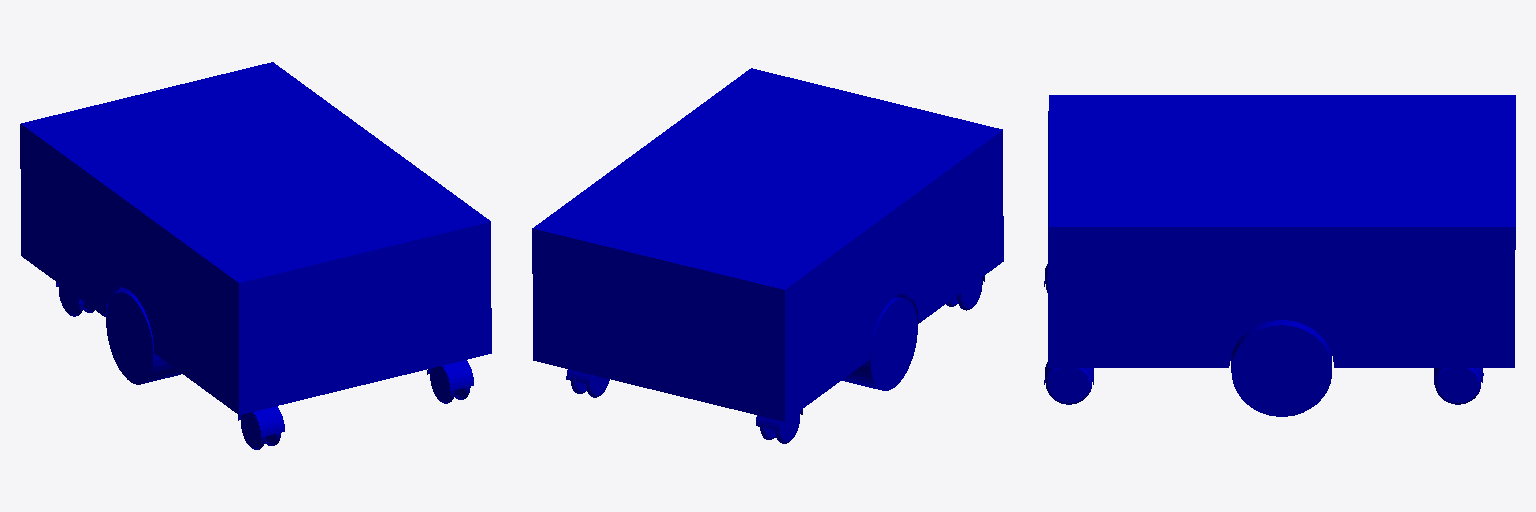
The robot description file, URDF, robot "robot":
<?xml version="1.0"?>
<robot name="robot">

<material name="blue">
    <color rgba="0 0 0.8 1"/>
  </material>
  <material name="black">
    <color rgba="0 0 0 1"/>
  </material>
  <material name="white">
    <color rgba="1 1 1 1"/>
  </material>



<link name="base">

<inertial>
   <origin rpy="0 0 0" xyz="0 0 0.0"/>
   <mass value="10"/>
  
   <inertia ixx="00.154" ixy="0" ixz="0" iyy="0.30" iyz="0"  izz="00.054"/>
</inertial>


<collision>
      <geometry>
       <mesh filename="package://diff_drive_robot/dae/frame.dae" scale = "0.001 0.001 0.001"/>
      </geometry>
        <origin rpy="1.57 0 0" xyz="-0.2 0.3 0"/>
    </collision>

<visual>
      <geometry>
       <mesh filename="package://diff_drive_robot/dae/frame.dae" scale = "0.001 0.001 0.001"/>
      </geometry>
        <origin rpy="1.57 0 0" xyz="-0.2 0.3 0"/>
      <material name="blue"/>
    </visual>

</link>






<link name="wheel_r">
<inertial>
   <origin rpy="1.57 0 0" xyz="0.2 0 0"/>
   <mass value="0.01"/>
   <inertia ixx="0.0160" ixy="0" ixz="0" iyy="0.0160" iyz="0"  izz="0.0144"/>
</inertial>
<collision>
      <geometry>
         <mesh filename="package://diff_drive_robot/dae/wheel.dae" scale = "0.001 0.001 0.001"/>
      </geometry>
        <origin rpy="0 0 3.14" xyz="0.2 0.065 -0.065"/>
    </collision>


    <visual>
      <geometry>
         <mesh filename="package://diff_drive_robot/dae/wheel.dae" scale = "0.001 0.001 0.001"/>
      </geometry>
        <origin rpy="0 0 3.14" xyz="0.2 0.065 -0.065"/>
      <material name="blue"/>
    </visual>
  </link>

  <joint name="right_j" type="continuous">
    <parent link="base"/>
    <child link="wheel_r"/>
    <origin xyz="0 0 0.0198"/>
    
    
    <axis  xyz = "1 0 0"/>
  </joint>

<gazebo reference="wheel_r">
    <mu1>0.8</mu1>
    <mu2>0.8</mu2>
    
  </gazebo>


<link name="wheel_l">
<inertial>
   <origin rpy="1.57 0 0" xyz="0.2 0 0"/>
   <mass value="0.01"/>
   <inertia ixx="0.0160" ixy="0" ixz="0" iyy="0.0160" iyz="0"  izz="0.0144"/>
</inertial>
<collision>
      <geometry>
         <mesh filename="package://diff_drive_robot/dae/wheel.dae" scale = "0.001 0.001 0.001"/>
      </geometry>
        <origin rpy="0 0 0" xyz="-0.2 -0.065 -0.065"/>
    </collision>


    <visual>
      <geometry>
         <mesh filename="package://diff_drive_robot/dae/wheel.dae" scale = "0.001 0.001 0.001"/>
      </geometry>
        <origin rpy="0 0 0" xyz="-0.2 -0.065 -0.065"/>
      <material name="blue"/>
    </visual>
  </link>

  <joint name="left_j" type="continuous">
    <parent link="base"/>
    <child link="wheel_l"/>
    <origin xyz="0 0 0.0198"/>
    
    
    <axis  xyz = "1 0 0"/>
  </joint>


<gazebo reference="wheel_l">
    <mu1>0.8</mu1>
    <mu2>0.8</mu2>
    
  </gazebo>






<link name="caster_fr">
<inertial>
   <origin rpy="1.57 0 0" xyz="0.2 0 0"/>
   <mass value="0.01"/>
   <inertia ixx="0.0160" ixy="0" ixz="0" iyy="0.0160" iyz="0"  izz="0.0144"/>
</inertial>
<collision>
      <geometry>
         <mesh filename="package://diff_drive_robot/dae/caster_joint.dae" scale = "0.001 0.001 0.001"/>
      </geometry>
        <origin rpy="1.57 0 3.14" xyz="0.02 -0.055 -0.020"/>
    </collision>


!--changing Z value to set the wheel--!
    <visual>
      <geometry>
         <mesh filename="package://diff_drive_robot/dae/caster_joint.dae" scale = "0.001 0.001 0.001"/>
      </geometry>
        <origin rpy="1.57 0 3.14" xyz="0.02 -0.055 -0.020"/>
      <material name="blue"/>
    </visual>
  </link>


  <joint name="caster_fr_joint" type="fixed">
    <parent link="base"/>
    <child link="caster_fr"/>
    <origin xyz="0.150 0.25 0"/>
    
    
    <axis  xyz = "0 0 1"/>
  </joint>









<link name="caster_wheel_fr_out">
<inertial>
   <origin rpy="1.57 0 0" xyz="0.2 0 0"/>
   <mass value="0.01"/>
   <inertia ixx="5.1458e-5" iyy="5.1458e-5" izz="6.125e-5"
           ixy="0" ixz="0" iyz="0"/>
</inertial>
<collision>
      <geometry>
         <mesh filename="package://diff_drive_robot/dae/caster.dae" scale = "0.001 0.001 0.001"/>
      </geometry>
        <origin rpy="1.57 0 0" xyz="0 0.030 -0.03"/>
    </collision>


!--changing Z value to set the wheel--!
    <visual>
      <geometry>
         <mesh filename="package://diff_drive_robot/dae/caster.dae" scale = "0.001 0.001 0.001"/>
      </geometry>
        <origin rpy="1.57 0 0" xyz="0 0.030 -0.03"/>
      <material name="blue"/>
    </visual>
  </link>


  <joint name="caster_fr_wheel_out_joint" type="continuous">
    <parent link="caster_fr"/>
    <child link="caster_wheel_fr_out"/>
    <origin xyz="0 -0.0235 -0.015"/>
    
    
    <axis  xyz = "1 0 0"/>
  </joint>



<gazebo reference="caster_wheel_fr_out">
    <mu1>0.0</mu1>
    <mu2>0.0</mu2>
    
  </gazebo>


<link name="caster_wheel_fr_in">
<inertial>
   <origin rpy="1.57 0 0" xyz="0.2 0 0"/>
   <mass value="0.01"/>
   <inertia ixx="5.1458e-5" iyy="5.1458e-5" izz="6.125e-5"
           ixy="0" ixz="0" iyz="0"/>
</inertial>
<collision>
      <geometry>
         <mesh filename="package://diff_drive_robot/dae/caster.dae" scale = "0.001 0.001 0.001"/>
      </geometry>
        <origin rpy="1.57 0 3.14" xyz="0 -0.030 -0.03"/>
    </collision>


!--changing Z value to set the wheel--!
    <visual>
      <geometry>
         <mesh filename="package://diff_drive_robot/dae/caster.dae" scale = "0.001 0.001 0.001"/>
      </geometry>
        <origin rpy="1.57 0 3.14" xyz="0 -0.030 -0.03"/>
      <material name="blue"/>
    </visual>
  </link>


  <joint name="caster_fr_wheel_in_joint" type="continuous">
    <parent link="caster_fr"/>
    <child link="caster_wheel_fr_in"/>
    <origin xyz="0 -0.0235 -0.015"/>
    
    
    <axis  xyz = "1 0 0"/>
  </joint>


<gazebo reference="caster_wheel_fr_in">
    <mu1>0.0</mu1>
    <mu2>0.0</mu2>
    
  </gazebo>















<link name="caster_fl">
<inertial>
   <origin rpy="1.57 0 0" xyz="0.2 0 0"/>
   <mass value="0.01"/>
   <inertia ixx="0.0160" ixy="0" ixz="0" iyy="0.0160" iyz="0"  izz="0.0144"/>
</inertial>
<collision>
      <geometry>
         <mesh filename="package://diff_drive_robot/dae/caster_joint.dae" scale = "0.001 0.001 0.001"/>
      </geometry>
        <origin rpy="1.57 0 3.14" xyz="0.02 -0.055 -0.020"/>
    </collision>


!--changing Z value to set the wheel--!
    <visual>
      <geometry>
         <mesh filename="package://diff_drive_robot/dae/caster_joint.dae" scale = "0.001 0.001 0.001"/>
      </geometry>
        <origin rpy="1.57 0 3.14" xyz="0.02 -0.055 -0.020"/>
      <material name="blue"/>
    </visual>
  </link>


  <joint name="caster_fl_joint" type="fixed">
    <parent link="base"/>
    <child link="caster_fl"/>
    <origin xyz="-0.150 0.25 0"/>
    
    
    <axis  xyz = "0 0 1"/>
  </joint>












<link name="caster_wheel_fl_out">
<inertial>
   <origin rpy="1.57 0 0" xyz="0.2 0 0"/>
   <mass value="0.01"/>
   <inertia ixx="5.1458e-5" iyy="5.1458e-5" izz="6.125e-5"
           ixy="0" ixz="0" iyz="0"/>
</inertial>
<collision>
      <geometry>
         <mesh filename="package://diff_drive_robot/dae/caster.dae" scale = "0.001 0.001 0.001"/>
      </geometry>
        <origin rpy="1.57 0 3.14" xyz="0 -0.030 -0.03"/>
    </collision>


!--changing Z value to set the wheel--!
    <visual>
      <geometry>
         <mesh filename="package://diff_drive_robot/dae/caster.dae" scale = "0.001 0.001 0.001"/>
      </geometry>
        <origin rpy="1.57 0 3.14" xyz="0 -0.030 -0.03"/>
      <material name="blue"/>
    </visual>
  </link>


  <joint name="caster_fl_wheel_out_joint" type="continuous">
    <parent link="caster_fl"/>
    <child link="caster_wheel_fl_out"/>
    <origin xyz="0 -0.0235 -0.015"/>
    
    
    <axis  xyz = "1 0 0"/>
  </joint>


<gazebo reference="caster_wheel_fl_out">
    <mu1>0.0</mu1>
    <mu2>0.0</mu2>
    
  </gazebo>



<link name="caster_wheel_fl_in">
<inertial>
   <origin rpy="1.57 0 0" xyz="0.2 0 0"/>
   <mass value="0.01"/>
   <inertia ixx="5.1458e-5" iyy="5.1458e-5" izz="6.125e-5"
           ixy="0" ixz="0" iyz="0"/>
</inertial>
<collision>
      <geometry>
         <mesh filename="package://diff_drive_robot/dae/caster.dae" scale = "0.001 0.001 0.001"/>
      </geometry>
        <origin rpy="1.57 0 0" xyz="0 0.030 -0.03"/>
    </collision>


!--changing Z value to set the wheel--!
    <visual>
      <geometry>
         <mesh filename="package://diff_drive_robot/dae/caster.dae" scale = "0.001 0.001 0.001"/>
      </geometry>
        <origin rpy="1.57 0 0" xyz="0 0.030 -0.03"/>
      <material name="blue"/>
    </visual>
  </link>


  <joint name="caster_fl_wheel_in_joint" type="continuous">
    <parent link="caster_fl"/>
    <child link="caster_wheel_fl_in"/>
    <origin xyz="0 -0.0235 -0.015"/>
    
    
    <axis  xyz = "1 0 0"/>
  </joint>





<gazebo reference="caster_wheel_fl_in">
    <mu1>0.0</mu1>
    <mu2>0.0</mu2>
    
  </gazebo>









<link name="caster_br">
<inertial>
   <origin rpy="1.57 0 0" xyz="0.2 0 0"/>
   <mass value="0.01"/>
   <inertia ixx="0.0160" ixy="0" ixz="0" iyy="0.0160" iyz="0"  izz="0.0144"/>
</inertial>
<collision>
      <geometry>
         <mesh filename="package://diff_drive_robot/dae/caster_joint.dae" scale = "0.001 0.001 0.001"/>
      </geometry>
        <origin rpy="1.57 0 3.14" xyz="0.02 -0.055 -0.020"/>
    </collision>


!--changing Z value to set the wheel--!
    <visual>
      <geometry>
         <mesh filename="package://diff_drive_robot/dae/caster_joint.dae" scale = "0.001 0.001 0.001"/>
      </geometry>
        <origin rpy="1.57 0 3.14" xyz="0.02 -0.055 -0.020"/>
      <material name="blue"/>
    </visual>
  </link>


  <joint name="caster_br_joint" type="fixed">
    <parent link="base"/>
    <child link="caster_br"/>
    <origin xyz="0.150 -0.25 0"/>
    
    
    <axis  xyz = "0 0 1"/>
  </joint>




<link name="caster_wheel_br_out">
<inertial>
   <origin rpy="1.57 0 0" xyz="0.2 0 0"/>
   <mass value="0.01"/>
   <inertia ixx="5.1458e-5" iyy="5.1458e-5" izz="6.125e-5"
           ixy="0" ixz="0" iyz="0"/>
</inertial>
<collision>
      <geometry>
         <mesh filename="package://diff_drive_robot/dae/caster.dae" scale = "0.001 0.001 0.001"/>
      </geometry>
        <origin rpy="1.57 0 0" xyz="0 0.030 -0.03"/>
    </collision>


!--changing Z value to set the wheel--!
    <visual>
      <geometry>
         <mesh filename="package://diff_drive_robot/dae/caster.dae" scale = "0.001 0.001 0.001"/>
      </geometry>
        <origin rpy="1.57 0 0" xyz="0 0.030 -0.03"/>
      <material name="blue"/>
    </visual>
  </link>


  <joint name="caster_br_wheel_out_joint" type="continuous">
    <parent link="caster_br"/>
    <child link="caster_wheel_br_out"/>
    <origin xyz="0 -0.0235 -0.015"/>
    
    
    <axis  xyz = "1 0 0"/>
  </joint>


<gazebo reference="caster_wheel_br_out">
    <mu1>0.0</mu1>
    <mu2>0.0</mu2>
    
  </gazebo>

<link name="caster_wheel_br_in">
<inertial>
   <origin rpy="1.57 0 0" xyz="0.2 0 0"/>
   <mass value="0.01"/>
   <inertia ixx="5.1458e-5" iyy="5.1458e-5" izz="6.125e-5"
           ixy="0" ixz="0" iyz="0"/>
</inertial>
<collision>
      <geometry>
         <mesh filename="package://diff_drive_robot/dae/caster.dae" scale = "0.001 0.001 0.001"/>
      </geometry>
        <origin rpy="1.57 0 3.14" xyz="0 -0.030 -0.03"/>
    </collision>


!--changing Z value to set the wheel--!
    <visual>
      <geometry>
         <mesh filename="package://diff_drive_robot/dae/caster.dae" scale = "0.001 0.001 0.001"/>
      </geometry>
        <origin rpy="1.57 0 3.14" xyz="0 -0.030 -0.03"/>
      <material name="blue"/>
    </visual>
  </link>


  <joint name="caster_br_wheel_in_joint" type="continuous">
    <parent link="caster_br"/>
    <child link="caster_wheel_br_in"/>
    <origin xyz="0 -0.0235 -0.015"/>
    
    
    <axis  xyz = "1 0 0"/>
  </joint>


<gazebo reference="caster_wheel_br_in">
    <mu1>0.0</mu1>
    <mu2>0.0</mu2>
    
  </gazebo>






<link name="caster_bl">
<inertial>
   <origin rpy="1.57 0 0" xyz="0.2 0 0"/>
   <mass value="0.01"/>
   <inertia ixx="0.0160" ixy="0" ixz="0" iyy="0.0160" iyz="0"  izz="0.0144"/>
</inertial>
<collision>
      <geometry>
         <mesh filename="package://diff_drive_robot/dae/caster_joint.dae" scale = "0.001 0.001 0.001"/>
      </geometry>
        <origin rpy="1.57 0 3.14" xyz="0.02 -0.055 -0.020"/>
    </collision>


!--changing Z value to set the wheel--!
    <visual>
      <geometry>
         <mesh filename="package://diff_drive_robot/dae/caster_joint.dae" scale = "0.001 0.001 0.001"/>
      </geometry>
        <origin rpy="1.57 0 3.14" xyz="0.02 -0.055 -0.020"/>
      <material name="blue"/>
    </visual>
  </link>


  <joint name="caster_bl_joint" type="fixed">
    <parent link="base"/>
    <child link="caster_bl"/>
    <origin xyz="-0.150 -0.25 0"/>
    
    
    <axis  xyz = "0 0 1"/>
  </joint>






<link name="caster_wheel_bl_out">
<inertial>
   <origin rpy="1.57 0 0" xyz="0.2 0 0"/>
   <mass value="0.01"/>
   <inertia ixx="5.1458e-5" iyy="5.1458e-5" izz="6.125e-5"
           ixy="0" ixz="0" iyz="0"/>
</inertial>
<collision>
      <geometry>
         <mesh filename="package://diff_drive_robot/dae/caster.dae" scale = "0.001 0.001 0.001"/>
      </geometry>
        <origin rpy="1.57 0 3.14" xyz="0 -0.030 -0.03"/>
    </collision>


!--changing Z value to set the wheel--!
    <visual>
      <geometry>
         <mesh filename="package://diff_drive_robot/dae/caster.dae" scale = "0.001 0.001 0.001"/>
      </geometry>
        <origin rpy="1.57 0 3.14" xyz="0 -0.030 -0.03"/>
      <material name="blue"/>
    </visual>
  </link>


  <joint name="caster_bl_wheel_out_joint" type="continuous">
    <parent link="caster_bl"/>
    <child link="caster_wheel_bl_out"/>
    <origin xyz="0 -0.0235 -0.015"/>
    
    
    <axis  xyz = "1 0 0"/>
  </joint>


<gazebo reference="caster_wheel_bl_out">
    <mu1>0.0</mu1>
    <mu2>0.0</mu2>
    
  </gazebo>

<link name="caster_wheel_bl_in">
<inertial>
   <origin rpy="1.57 0 0" xyz="0.2 0 0"/>
   <mass value="0.01"/>
   <inertia ixx="5.1458e-5" iyy="5.1458e-5" izz="6.125e-5"
           ixy="0" ixz="0" iyz="0"/>
</inertial>
<collision>
      <geometry>
         <mesh filename="package://diff_drive_robot/dae/caster.dae" scale = "0.001 0.001 0.001"/>
      </geometry>
        <origin rpy="1.57 0 0" xyz="0 0.030 -0.03"/>
    </collision>


!--changing Z value to set the wheel--!
    <visual>
      <geometry>
         <mesh filename="package://diff_drive_robot/dae/caster.dae" scale = "0.001 0.001 0.001"/>
      </geometry>
        <origin rpy="1.57 0 0" xyz="0 0.030 -0.03"/>
      <material name="blue"/>
    </visual>
  </link>


  <joint name="caster_bl_wheel_in_joint" type="continuous">
    <parent link="caster_bl"/>
    <child link="caster_wheel_bl_in"/>
    <origin xyz="0 -0.0235 -0.015"/>
    
    
    <axis  xyz = "1 0 0"/>
  </joint>


<gazebo reference="caster_wheel_bl_in">
    <mu1>0.0</mu1>
    <mu2>0.0</mu2>
    
  </gazebo>


<gazebo>
  <plugin name="differential_drive_controller" filename="libgazebo_ros_diff_drive.so">
    <alwaysOn>true</alwaysOn>
    <legacyMode>false</legacyMode>
    <updateRate>40</updateRate>
    <leftJoint>left_j</leftJoint>
    <rightJoint>right_j</rightJoint>
    <wheelSeparation>0.4</wheelSeparation>
    <wheelDiameter>0.137</wheelDiameter>
    <torque>50</torque>
    <commandTopic>/cmd_vel</commandTopic>
    <odometryTopic>odom</odometryTopic>
    <odometryFrame>odom</odometryFrame>
    <robotBaseFrame>base_footprint</robotBaseFrame>
  </plugin>
</gazebo>

</robot>

--- What the picture shows (computed from the rendered views, not written in the file) ---
Views: 3 orthographic renders of the robot side by side, from view 1: azimuth 30°, elevation 25°; view 2: azimuth 150°, elevation 25°; view 3: azimuth 270°, elevation 25°.
Model robot with 15 links and 14 joints (10 continuous, 4 fixed), rooted at base, posed every joint at zero.
Links seen in each view (by area): view 1: base, wheel_l, caster_bl, caster_br, caster_wheel_br_in, caster_wheel_bl_out; view 2: base, wheel_l; view 3: base, wheel_r, caster_wheel_fr_out, caster_wheel_br_out.
Link boxes in pixels (x1,y1,x2,y2): base: (20,62,491,414); wheel_l: (106,290,181,384); caster_bl: (238,406,284,436); caster_br: (427,360,473,390); caster_wheel_br_in: (430,366,454,403); caster_wheel_bl_out: (241,412,265,449); base: (532,68,1003,421); wheel_l: (842,297,917,390); base: (1048,95,1515,367); wheel_r: (1231,320,1331,416); caster_wheel_fr_out: (1435,368,1480,404); caster_wheel_br_out: (1046,368,1091,404).
Size in the robot's own frame: 0.4 by 0.6052 by 0.2699 metres.
15 mesh visuals loaded from 4 distinct referenced files (4 Collada DAE).